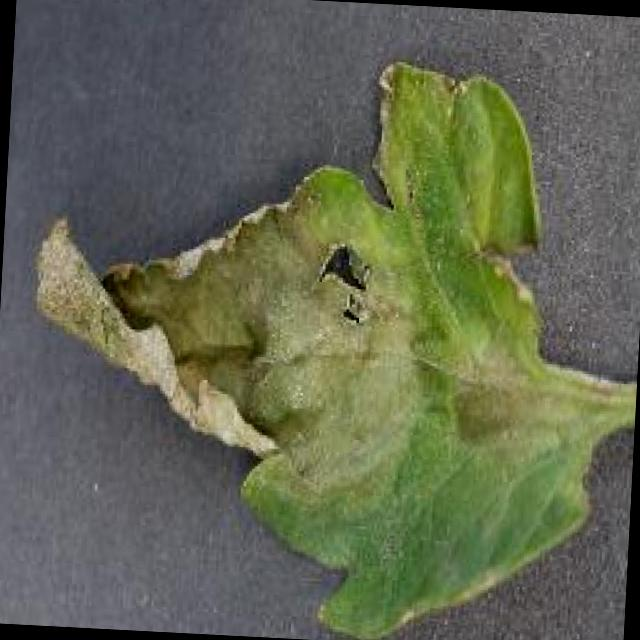leaf blight: (37, 60, 637, 640)
